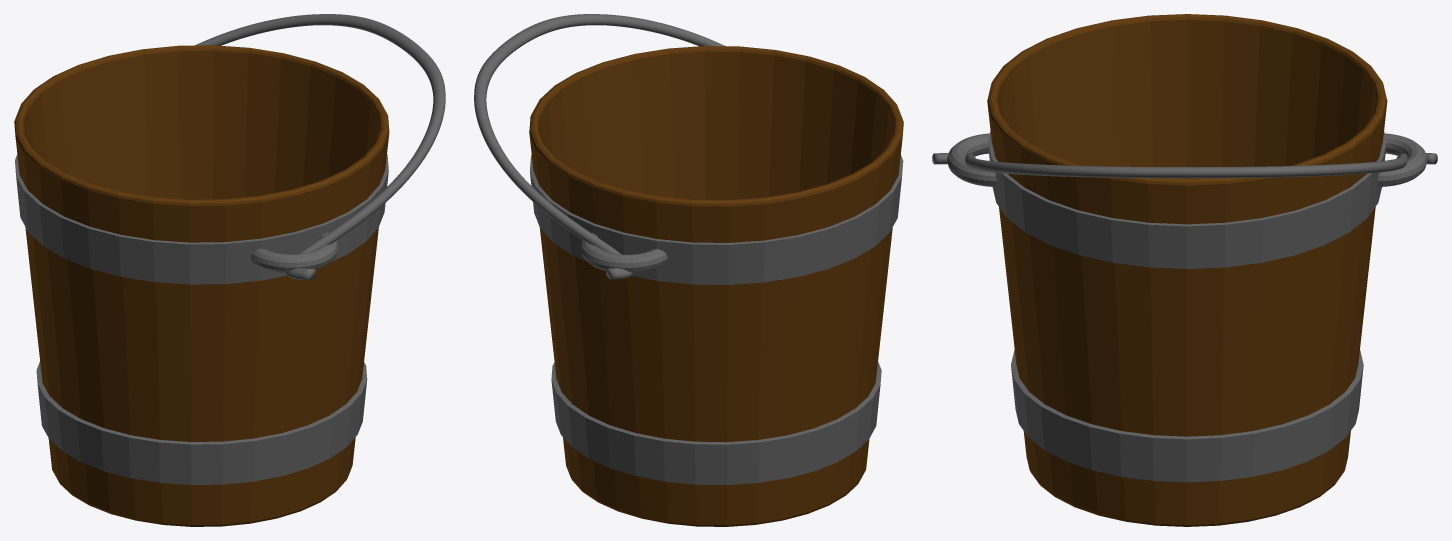
File: Bucket_Standing.fbx
3 renders of one model, left to right at view 1: azimuth 30°, elevation 25°; view 2: azimuth 150°, elevation 25°; view 3: azimuth 270°, elevation 25°, orthographic. The views are drawn at different scales.
Visible parts, largest first — view 1: Eimer, Metal Ringe, NurbsPath, Torus; view 2: Eimer, Metal Ringe, NurbsPath, Torus.001; view 3: Eimer, Metal Ringe, NurbsPath, Torus.001, Torus.
Boxes of the visible parts, left/top/right/bottom form: Eimer: left=14, top=45, right=389, bottom=526; Metal Ringe: left=15, top=154, right=388, bottom=484; NurbsPath: left=195, top=14, right=445, bottom=280; Torus: left=250, top=232, right=338, bottom=272; Eimer: left=529, top=46, right=903, bottom=526; Metal Ringe: left=530, top=154, right=903, bottom=484; NurbsPath: left=474, top=14, right=725, bottom=279; Torus.001: left=580, top=233, right=667, bottom=273; Eimer: left=987, top=14, right=1387, bottom=526; Metal Ringe: left=988, top=131, right=1386, bottom=482; NurbsPath: left=932, top=153, right=1437, bottom=178; Torus.001: left=1377, top=133, right=1427, bottom=186; Torus: left=947, top=133, right=996, bottom=186.
Bounding box in the file's own units: 45.76 × 44.01 × 50.46.
